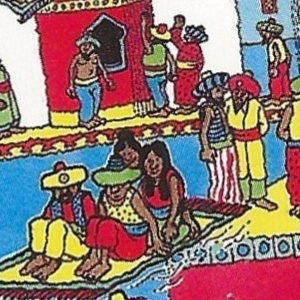Wenda: (142, 128, 158, 172)
Wizard Whitebeard: (255, 117, 291, 202)
